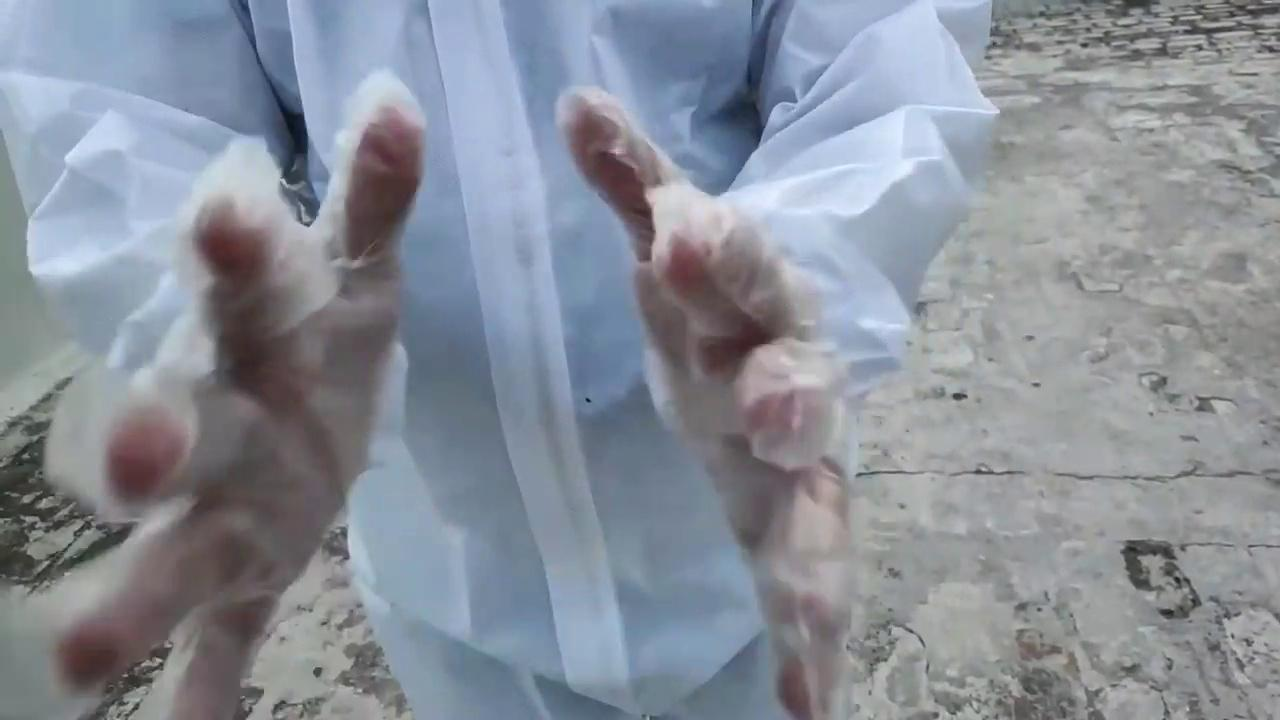Gloves On: (55, 82, 422, 718), (560, 90, 850, 718)
Suit On: (0, 0, 995, 715)
